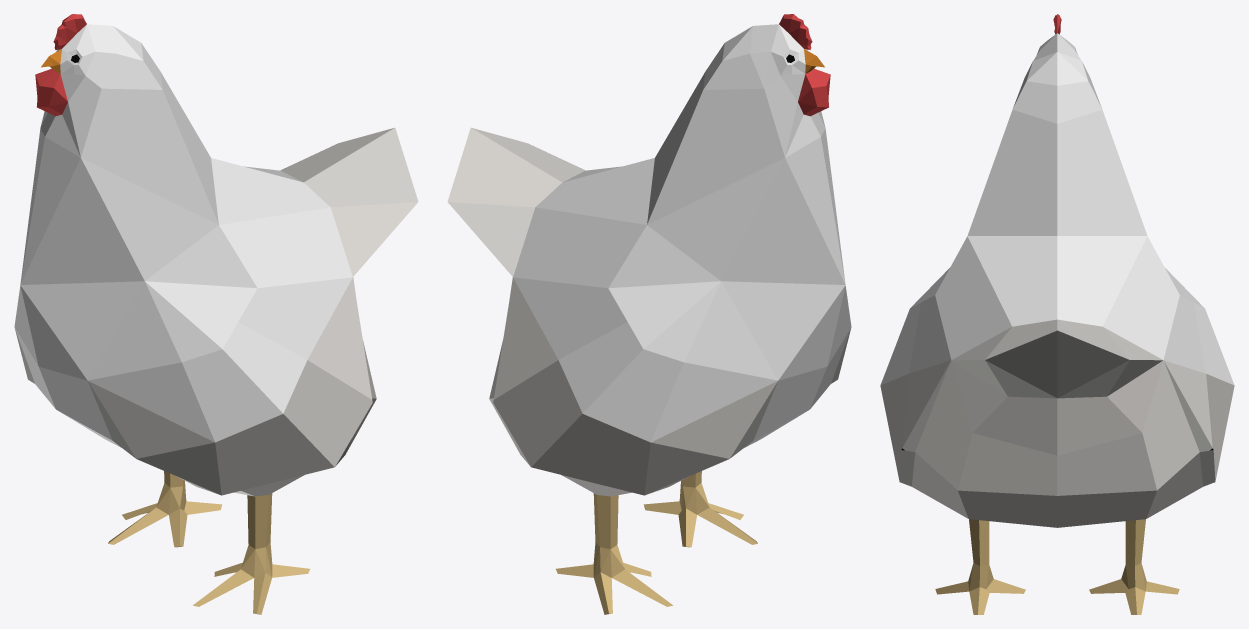
The picture shows the model from 3 angles, left to right: view 1: azimuth 30°, elevation 25°; view 2: azimuth 150°, elevation 25°; view 3: azimuth 270°, elevation 25°; orthographic projection. The views are drawn at different scales.
Parts seen in each view (by area): view 1: Chicken_Cube; view 2: Chicken_Cube; view 3: Chicken_Cube.
Boxes of the visible parts, x1,y1,x2,y2 form: Chicken_Cube: [14, 14, 418, 614]; Chicken_Cube: [447, 14, 851, 614]; Chicken_Cube: [880, 14, 1234, 614].
Size of the model in its own units: 2.36 by 3.51 by 2.14.
